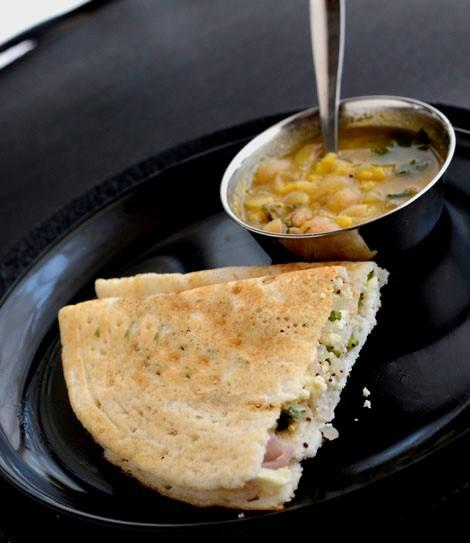Dosa: (58, 260, 389, 510)
